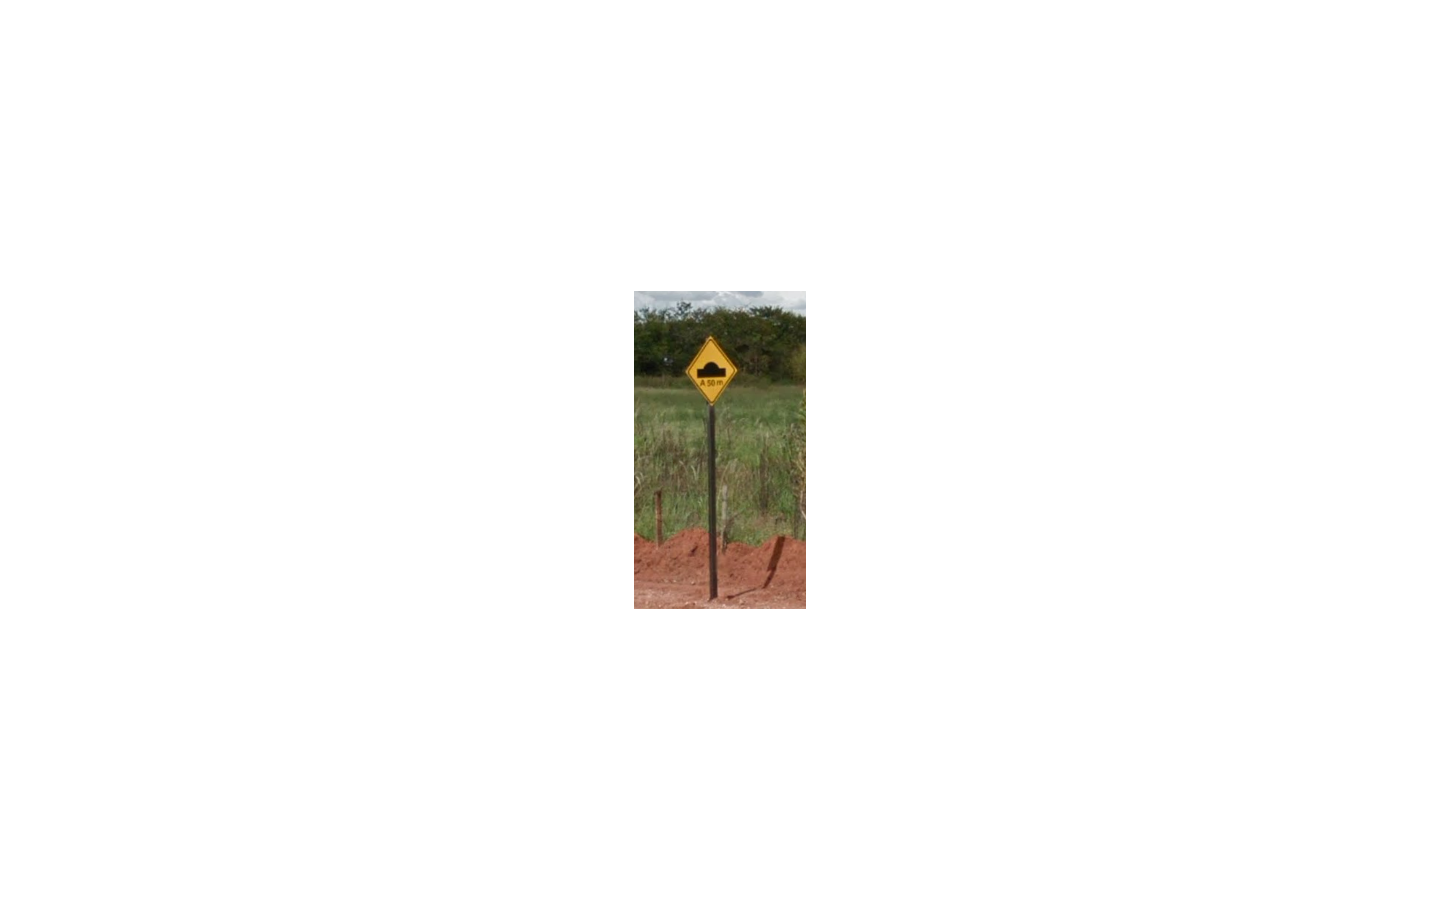l50m: (684, 335, 737, 406)
